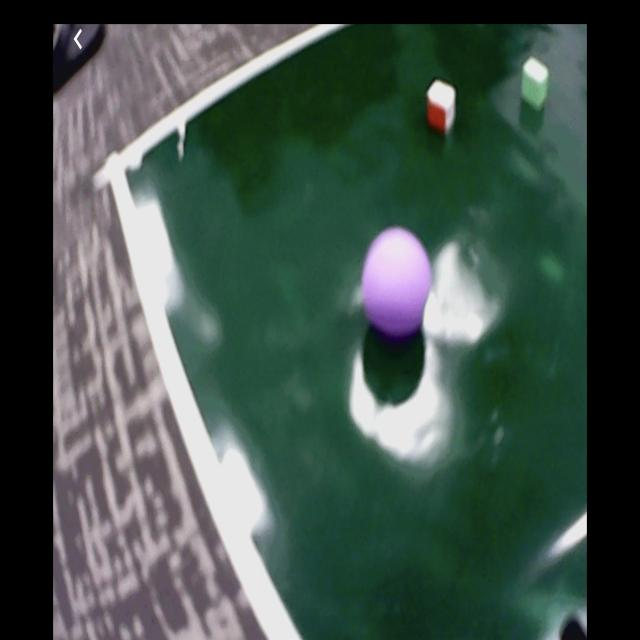ball: (364, 227, 428, 333)
